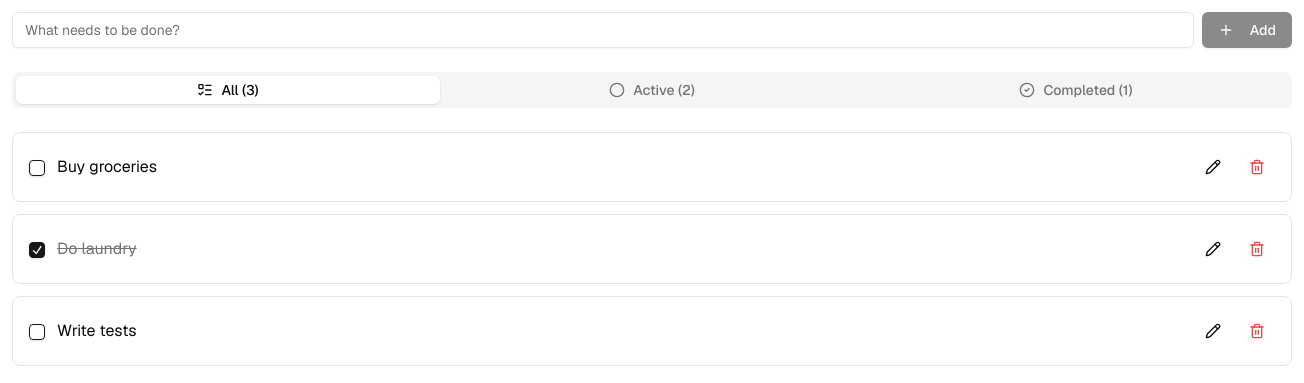
Test: TodoList › should filter to show only completed todos
Step 1. Click the tab "Completed (1)" → (1076, 90), box [864,76,1288,104]
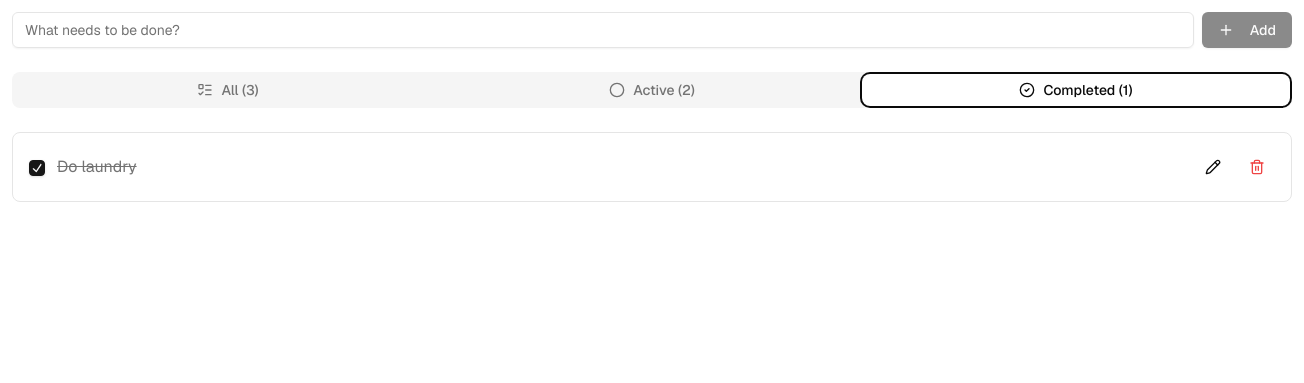
Expected: the text "Do laundry" is shown, [57,156,137,177]
Now the text "Buy groceries" is gone
Now the text "Write tests" is gone
